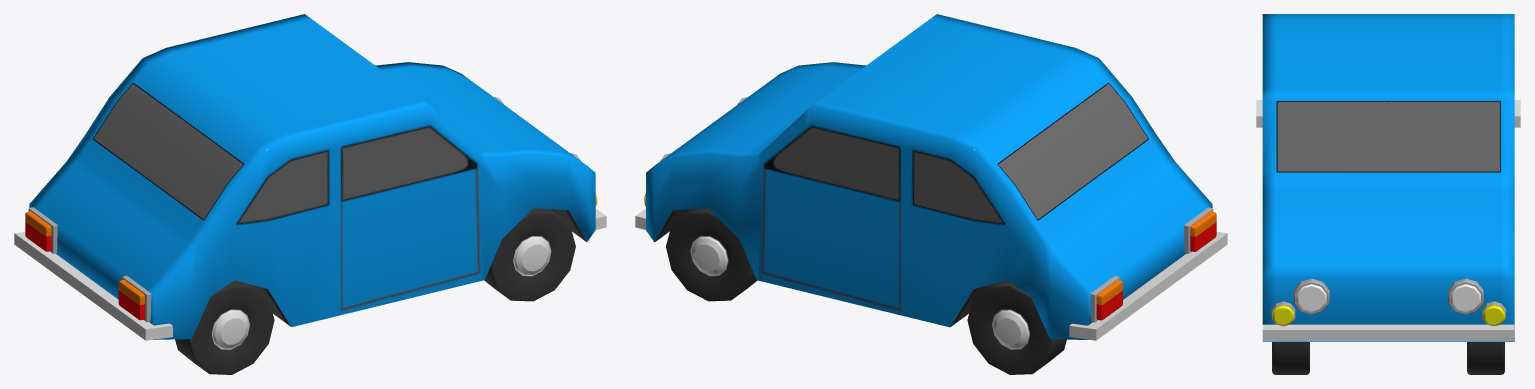
The model's file is HAMMOBILE_OLD.fbx.
The picture shows the model from 3 angles, left to right: view 1: azimuth 30°, elevation 25°; view 2: azimuth 150°, elevation 25°; view 3: azimuth 270°, elevation 25°; orthographic projection.
Visible parts, largest first — view 1: polySurface44; view 2: polySurface44; view 3: polySurface44.
Part boxes in pixels (x1,y1,x2,y2): polySurface44: (14,14,606,374); polySurface44: (635,14,1227,374); polySurface44: (1256,14,1520,374).
Bounding box in the file's own units: 261 × 122 × 128.
